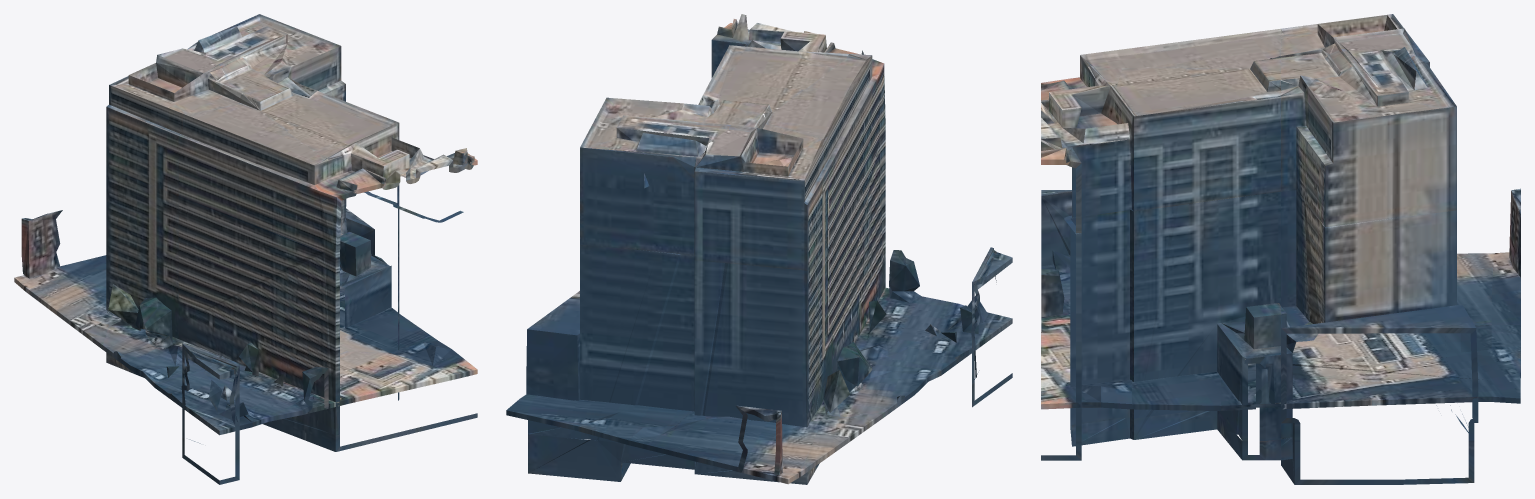
File: chunk_-9_2.glb
The picture shows the model from 3 angles, left to right: view 1: azimuth 30°, elevation 25°; view 2: azimuth 150°, elevation 25°; view 3: azimuth 270°, elevation 25°; orthographic projection. The views are drawn at different scales.
Parts seen in each view (by area): view 1: hero-chunk; view 2: hero-chunk; view 3: hero-chunk.
Part boxes in pixels (x1,y1,x2,y2): hero-chunk: [14, 14, 477, 484]; hero-chunk: [506, 14, 1012, 484]; hero-chunk: [1041, 14, 1520, 484].
Bounding box in the file's own units: 55.73 × 64.58 × 76.33.
Materials: 2 (2 with a texture image).
